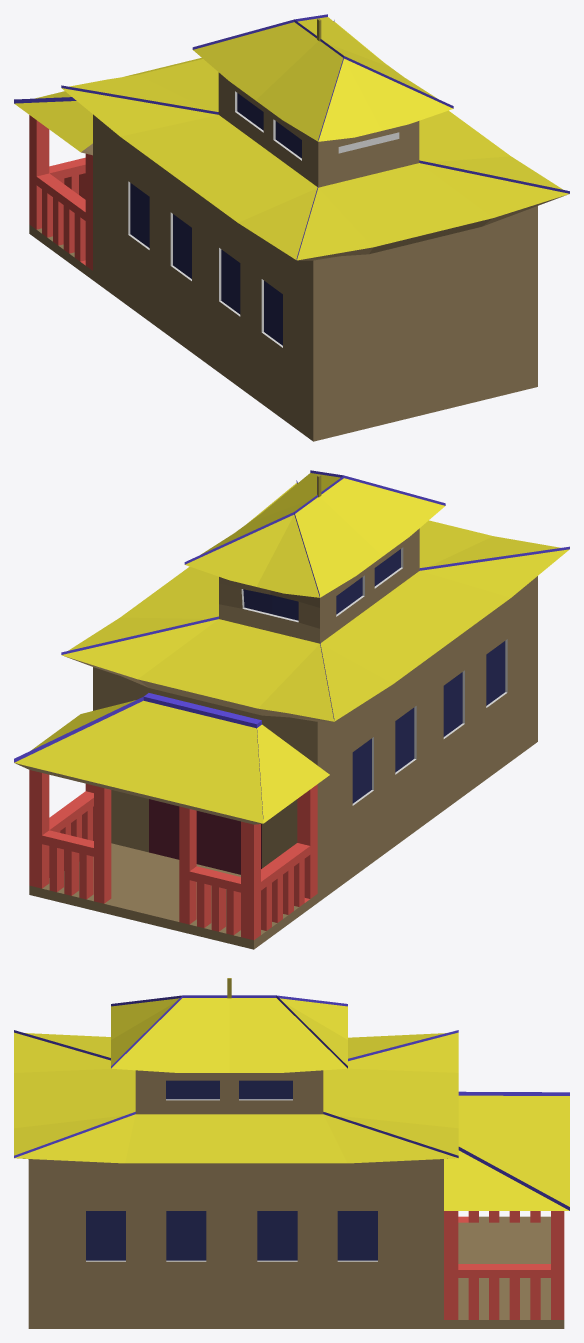
The model's file is Ак-Буркан.glb.
The picture shows the model from 3 angles, top to bottom: view 1: azimuth 30°, elevation 25°; view 2: azimuth 150°, elevation 25°; view 3: azimuth 270°, elevation 25°; orthographic projection. The views are drawn at different scales.
Parts seen in each view (by area): view 1: Куб; view 2: Куб; view 3: Куб.
Part boxes in pixels (left/top/right/bottom): Куб: left=14, top=14, right=569, bottom=441; Куб: left=14, top=470, right=569, bottom=949; Куб: left=14, top=978, right=569, bottom=1328.
Bounding box in the file's own units: 14.77 × 16.36 × 27.59.
